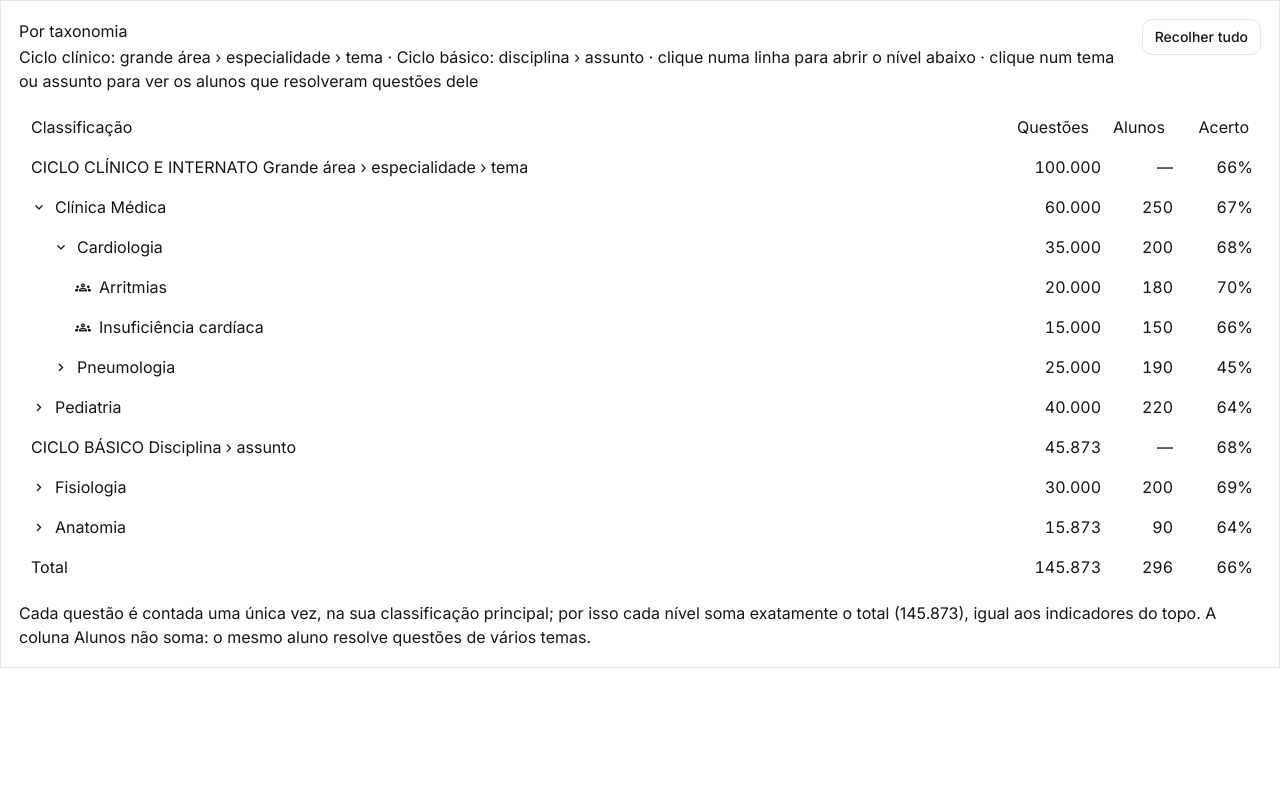
Scenario: GavetaTaxonomia — pop-up de alunos (§12.3) › fechar: o botão "Fechar" fecha e o foco volta para a linha que abriu
The width and height of the screenshot is (1280, 800).
Click the button with aria-label "Ver alunos do tema Arritmias" at {"x": 121, "y": 287}, box [75,275,167,299]
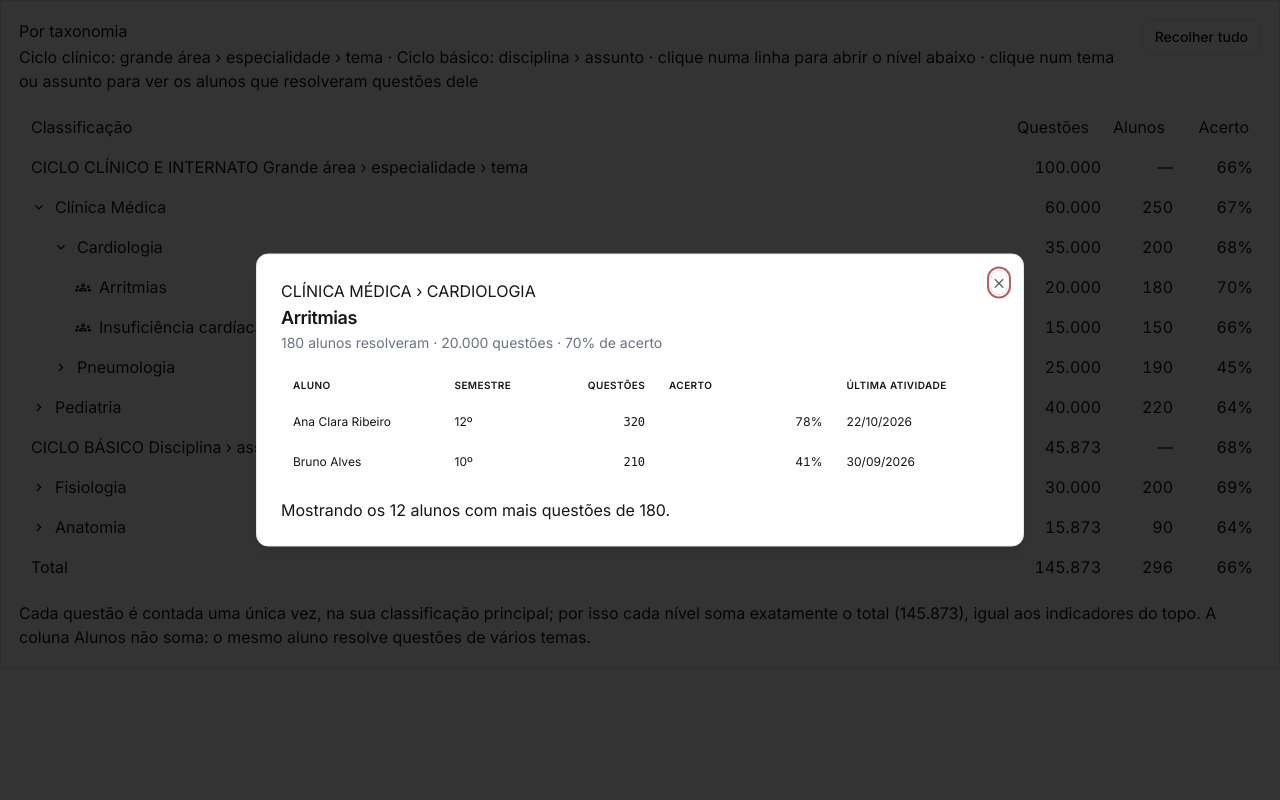
Click the button named "Fechar" at {"x": 999, "y": 282}, box [991,270,1007,294]
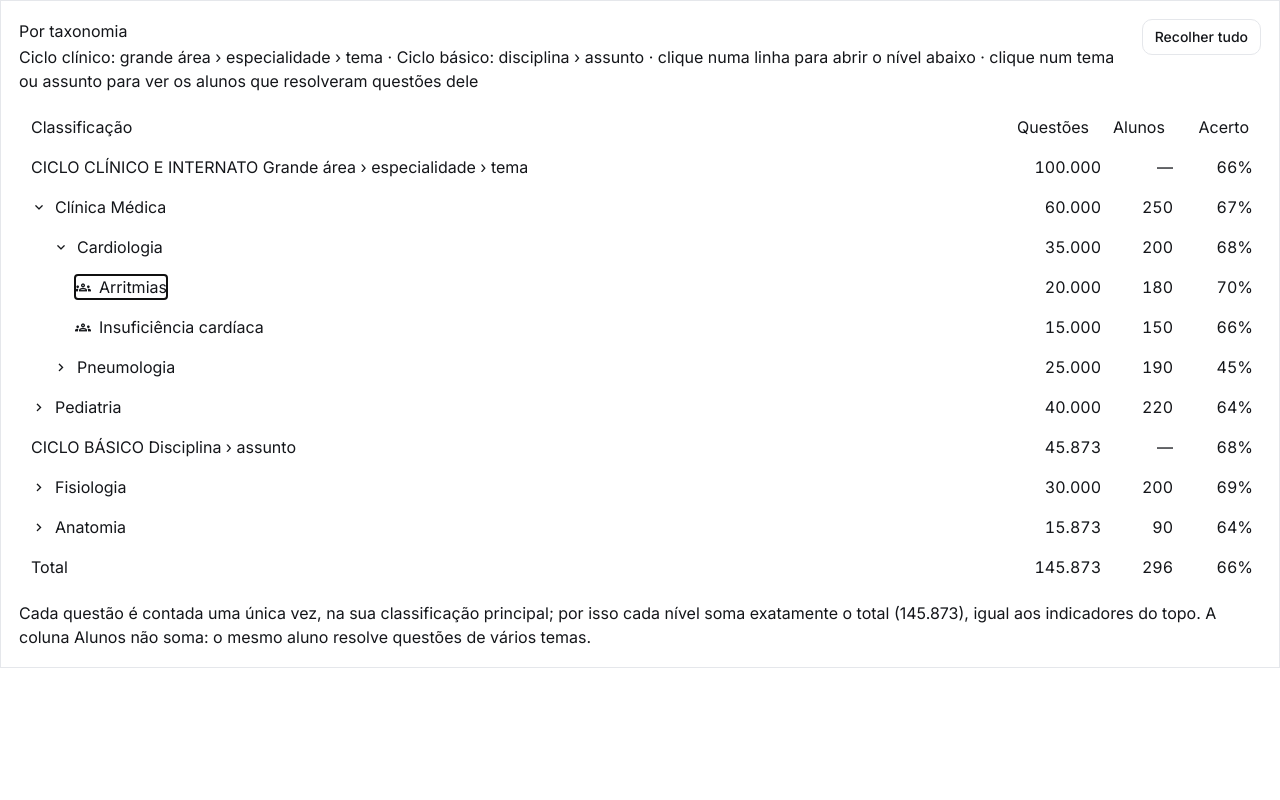
Check: the dialog is gone
